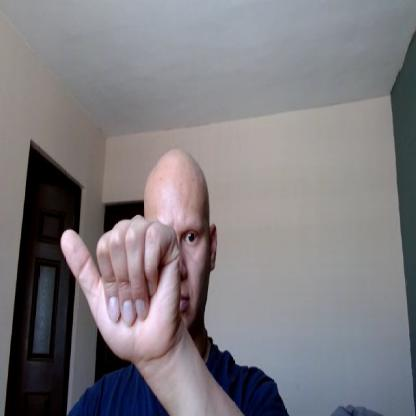A: (62, 215, 180, 362)
